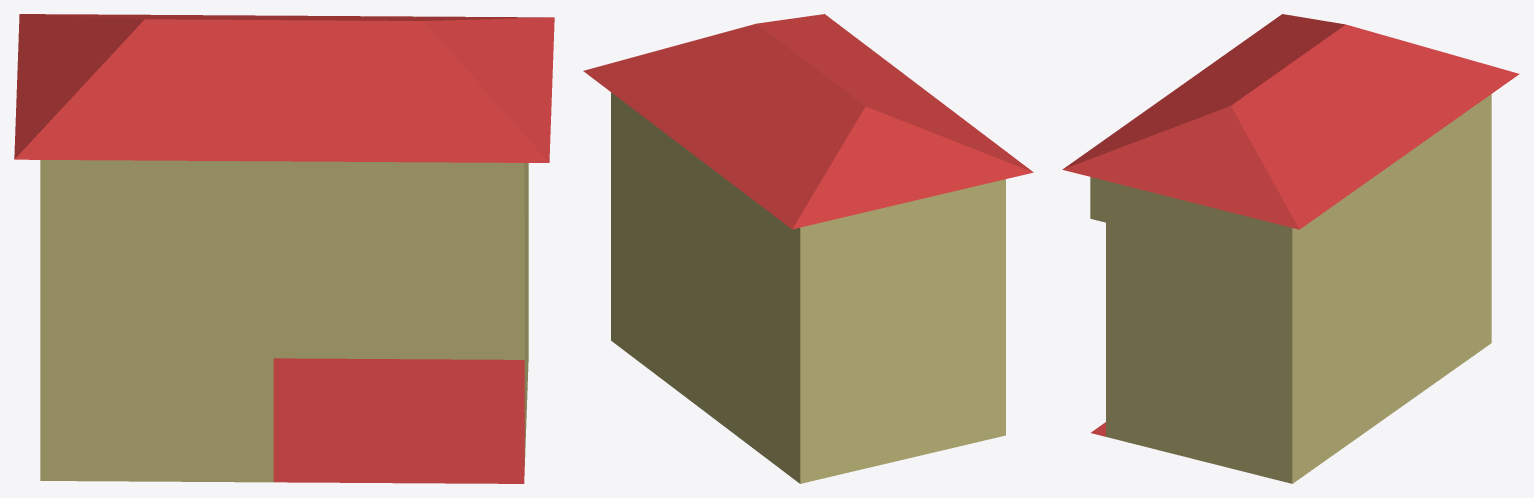
3 views of the same model, side by side, from view 1: azimuth 30°, elevation 25°; view 2: azimuth 150°, elevation 25°; view 3: azimuth 270°, elevation 25° (orthographic). The views are drawn at different scales.
Visible parts, largest first — view 1: group_5, group_3, group_6, group_4; view 2: group_5, group_3, group_4; view 3: group_5, group_3, group_4.
Boxes of the visible parts, left/top/right/bottom form: group_5: left=40, top=14, right=528, bottom=482; group_3: left=14, top=14, right=549, bottom=162; group_6: left=273, top=358, right=524, bottom=483; group_4: left=14, top=14, right=554, bottom=162; group_5: left=611, top=92, right=1005, bottom=483; group_3: left=611, top=14, right=1032, bottom=229; group_4: left=583, top=14, right=1033, bottom=228; group_5: left=1090, top=94, right=1491, bottom=483; group_3: left=1062, top=16, right=1516, bottom=209; group_4: left=1063, top=14, right=1519, bottom=229.
Bounding box in the file's own units: 18.58 × 16.66 × 12.94.
